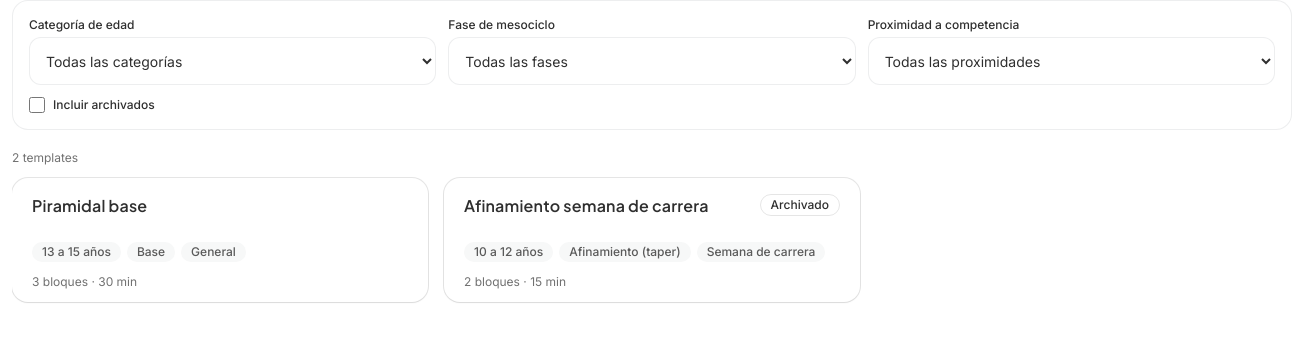
Test: TemplatePicker — filtros › con tres filtros activos muestra '3 filtros activos'
The width and height of the screenshot is (1292, 340).
Select "10 a 12 años" in the dropdown labelled "Categoría de edad" at x=233, y=61, box [29,37,436,85]
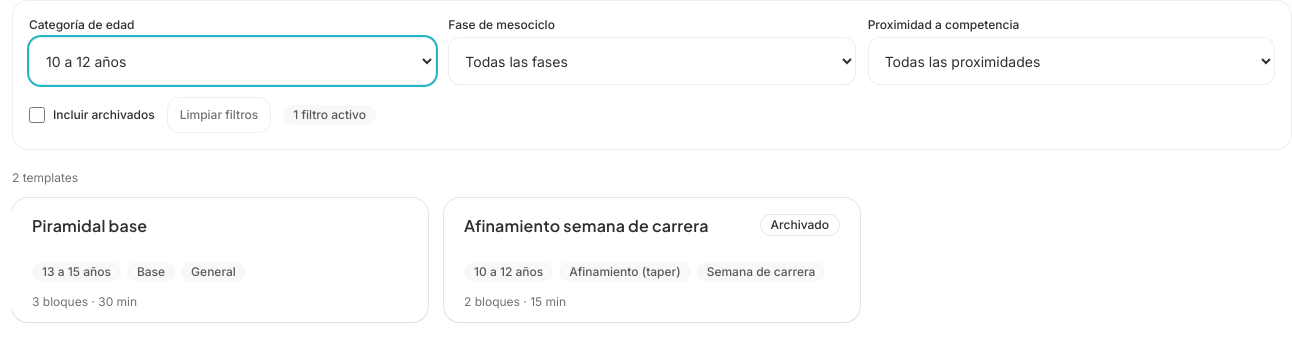
Select "Base" in the dropdown labelled "Fase de mesociclo" at x=652, y=61, box [448,37,856,85]
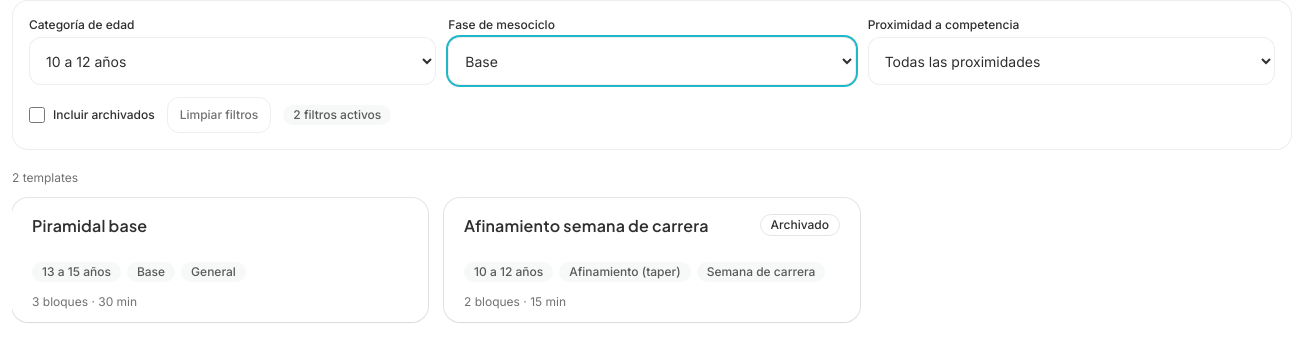
Click the checkbox labelled "Incluir archivados".
click(37, 115)  # box [29,107,45,123]
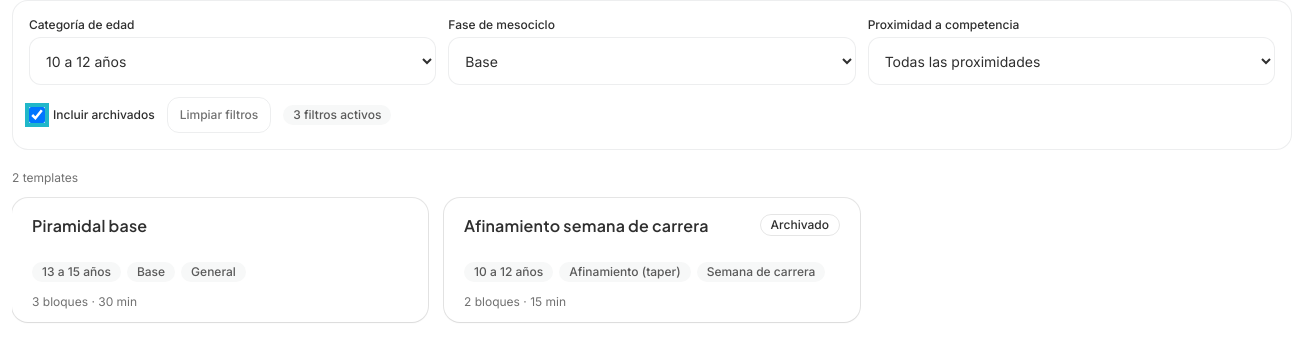
expect the text "3 filtros activos" is shown: met, box [283,105,392,125]
